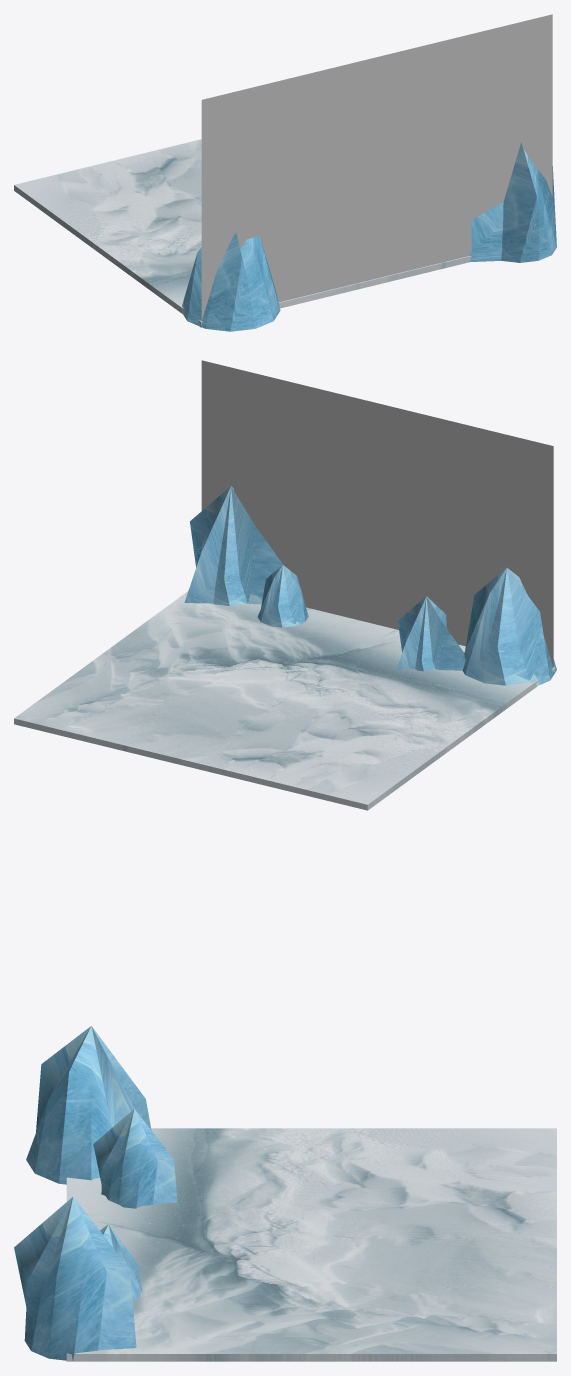
File: back_exterior.fbx
3 renders of one model, top to bottom at view 1: azimuth 30°, elevation 25°; view 2: azimuth 150°, elevation 25°; view 3: azimuth 270°, elevation 25°, orthographic. The views are drawn at different scales.
Parts seen in each view (by area): view 1: pPlane2, pPlane1, pCone4, pCone1; view 2: pPlane2, pPlane1, pCone1, pCone4, pCone3, pCone2; view 3: pPlane1, pCone4, pCone1, pCone3, pCone2.
Part boxes in pixels (x1,y1,x2,y2): pPlane2: [201, 14, 552, 320]; pPlane1: [14, 139, 471, 327]; pCone4: [469, 142, 556, 262]; pCone1: [182, 231, 280, 331]; pPlane2: [201, 360, 553, 667]; pPlane1: [14, 591, 555, 810]; pCone1: [462, 568, 556, 686]; pCone4: [184, 486, 282, 605]; pCone3: [396, 596, 465, 671]; pCone2: [257, 565, 308, 627]; pPlane1: [66, 1128, 556, 1361]; pCone4: [14, 1197, 136, 1360]; pCone1: [26, 1026, 151, 1184]; pCone3: [93, 1109, 177, 1208]; pCone2: [100, 1224, 142, 1300].
Size of the model in its own units: 24.46 by 15 by 24.21.
